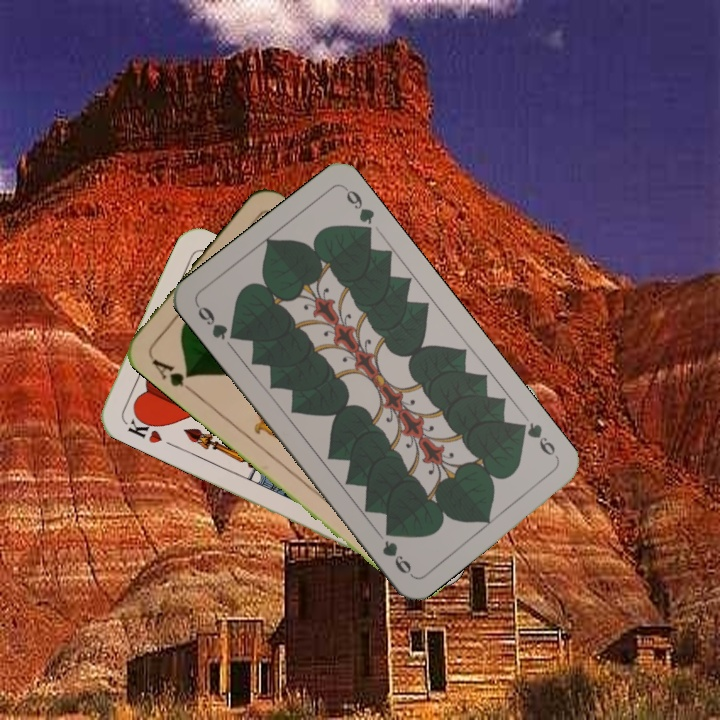G9: (512, 418, 561, 462), (192, 300, 242, 343)
GA: (148, 353, 197, 396)
HK: (119, 409, 165, 446)
